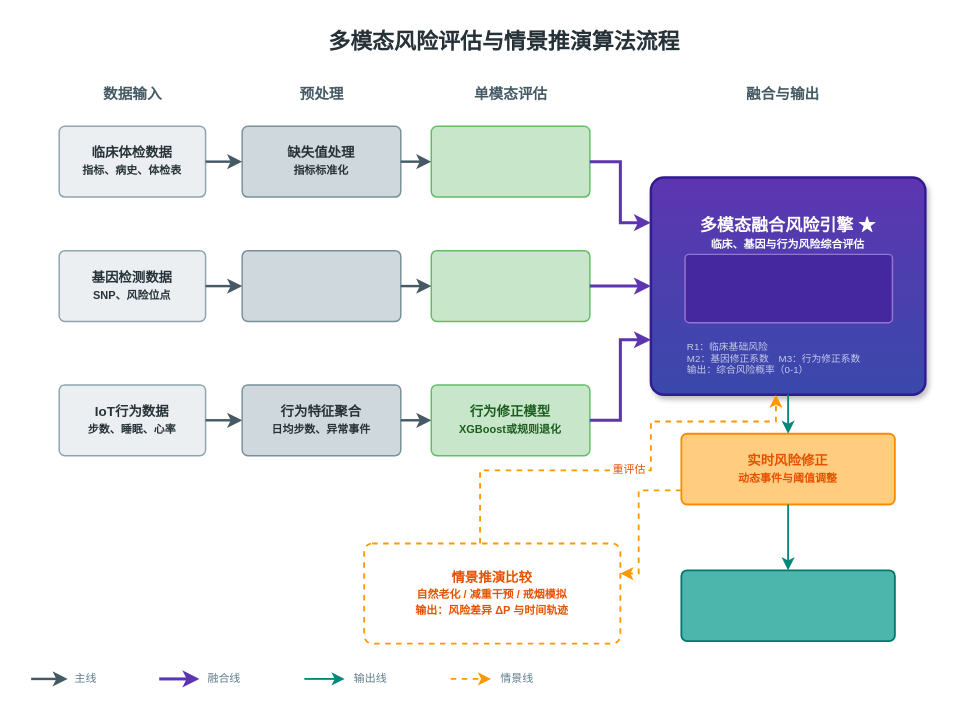
This 954x711 diagram has some shape labels left out. The shapes that lost their labels are listed below. From the top down, each one's centre as x and y in pixels, then its label:
At point (510, 161): "临床风险模型 LightGBM疾病风险".
At point (321, 285): "SNP解析 风险位点匹配".
At point (510, 285): "遗传风险评分 GWAS权重累加".
At point (788, 288): "P = clip(R1 × M2 × M3, 0.001, 0.999)".
At point (787, 605): "结构化风险报告 风险等级、解释、建议".
